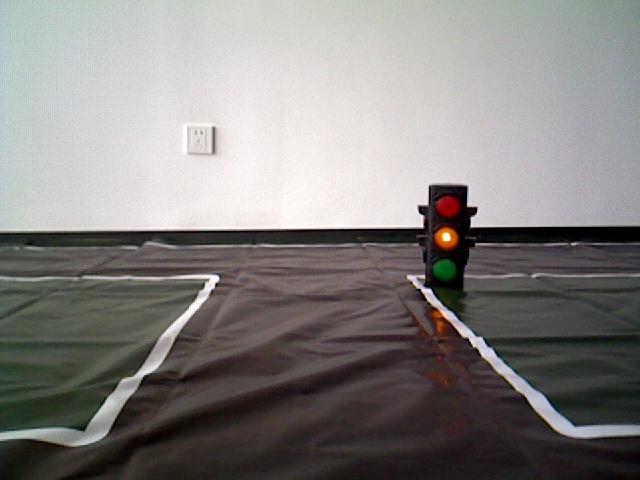yellow: (427, 183, 466, 283)
